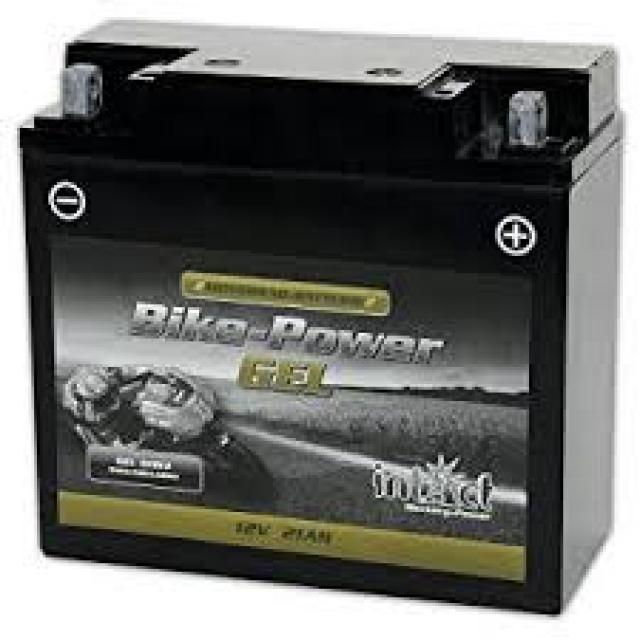non-organic waste: (20, 20, 619, 622)
